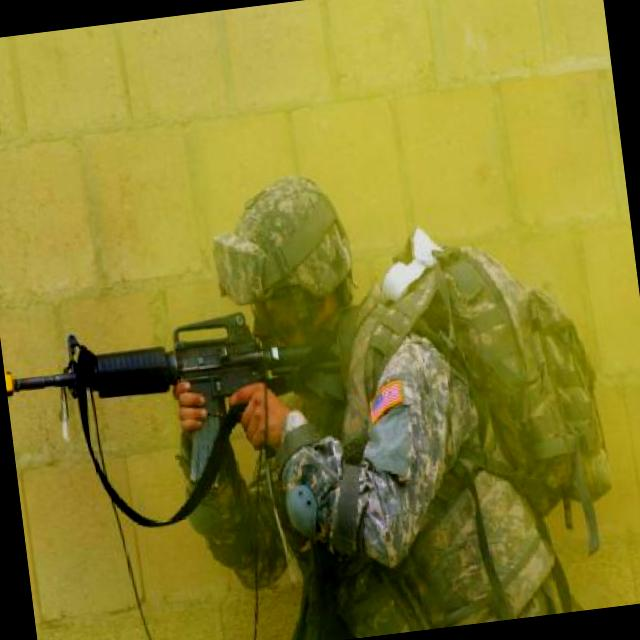Person: (144, 147, 567, 640)
